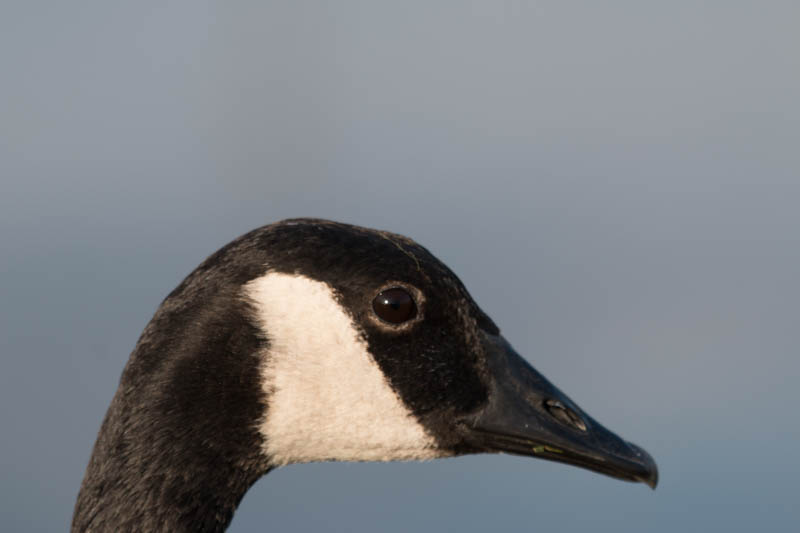goose-head: (153, 217, 661, 490)
